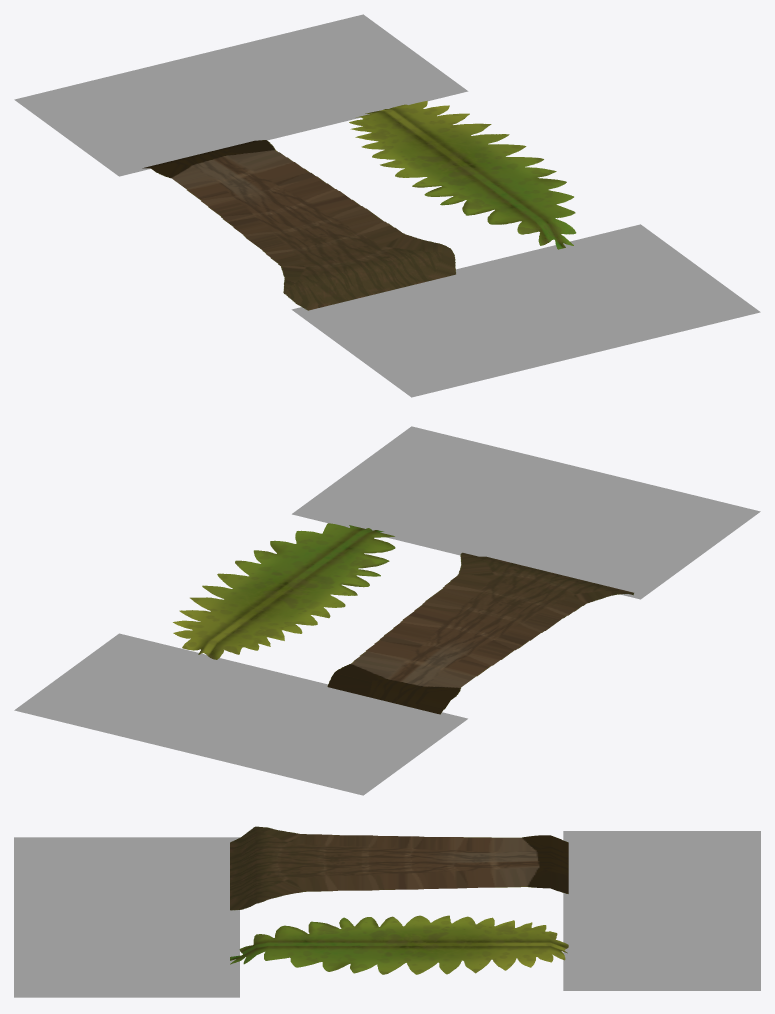
Rendered from Ground_WIre.fbx.
3 views of the same model, one above another, from view 1: azimuth 30°, elevation 25°; view 2: azimuth 150°, elevation 25°; view 3: azimuth 270°, elevation 25° (orthographic). The views are drawn at different scales.
Visible parts, largest first — view 1: pPlane38; view 2: pPlane38; view 3: pPlane38.
Part boxes in pixels (bbox=[...]): pPlane38: bbox=[14, 14, 760, 397]; pPlane38: bbox=[14, 426, 760, 795]; pPlane38: bbox=[14, 826, 760, 997].
Size of the model in its own units: 46.47 by 2.14 by 91.6.
